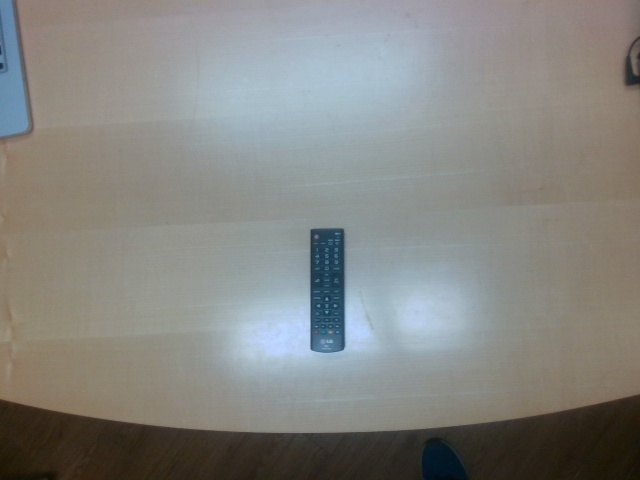remote: (310, 228, 345, 353)
